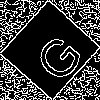G: (25, 25, 86, 86)
